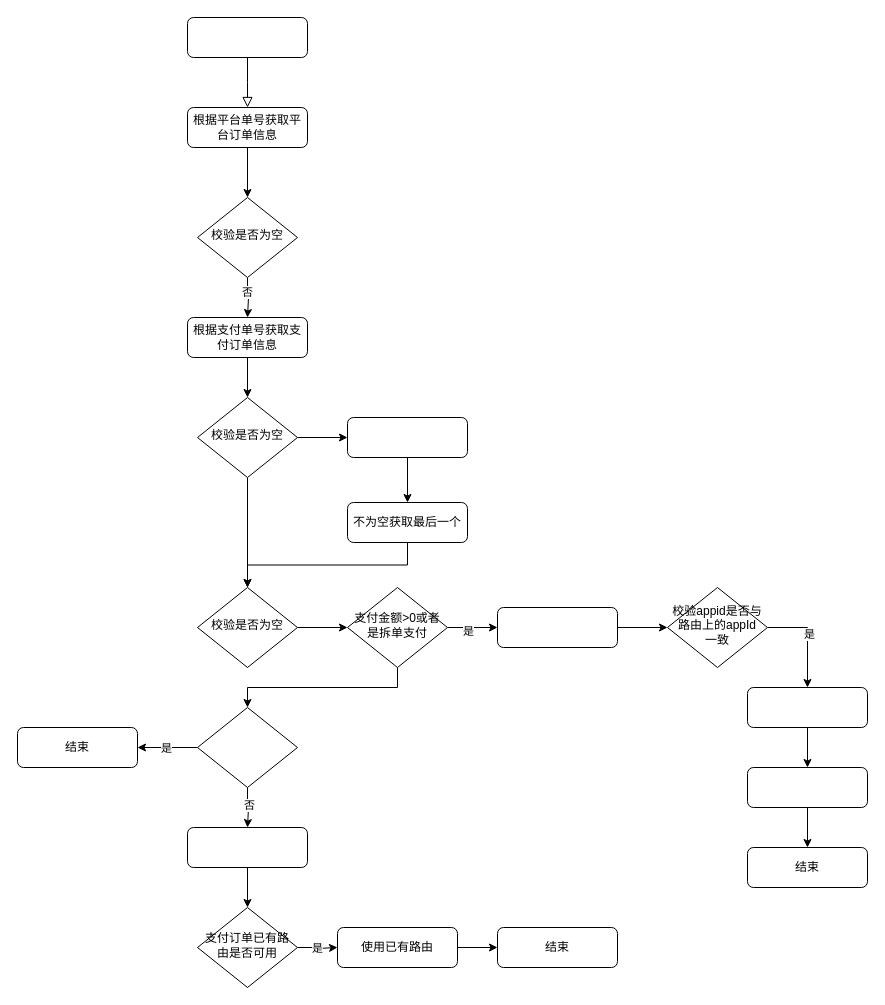
Some shapes in this 885 by 1005 pixel diagram are drawn without their labels. The box of each missing label's shape, as (x1, y1, x2, y2) in pixels:
开始: (186, 16, 308, 58)
更新支付订单和平台订单路由信息: (746, 686, 868, 728)
校验平台订单或者支付订单支付方式是否为储值卡支付: (196, 706, 298, 788)
根据平台单号获取支付订单信息: (346, 416, 468, 458)
获取平台订单上的路由配置: (496, 606, 618, 648)
返回平台订单上的路由: (746, 766, 868, 808)
进行支付appId转换: (186, 826, 308, 868)
